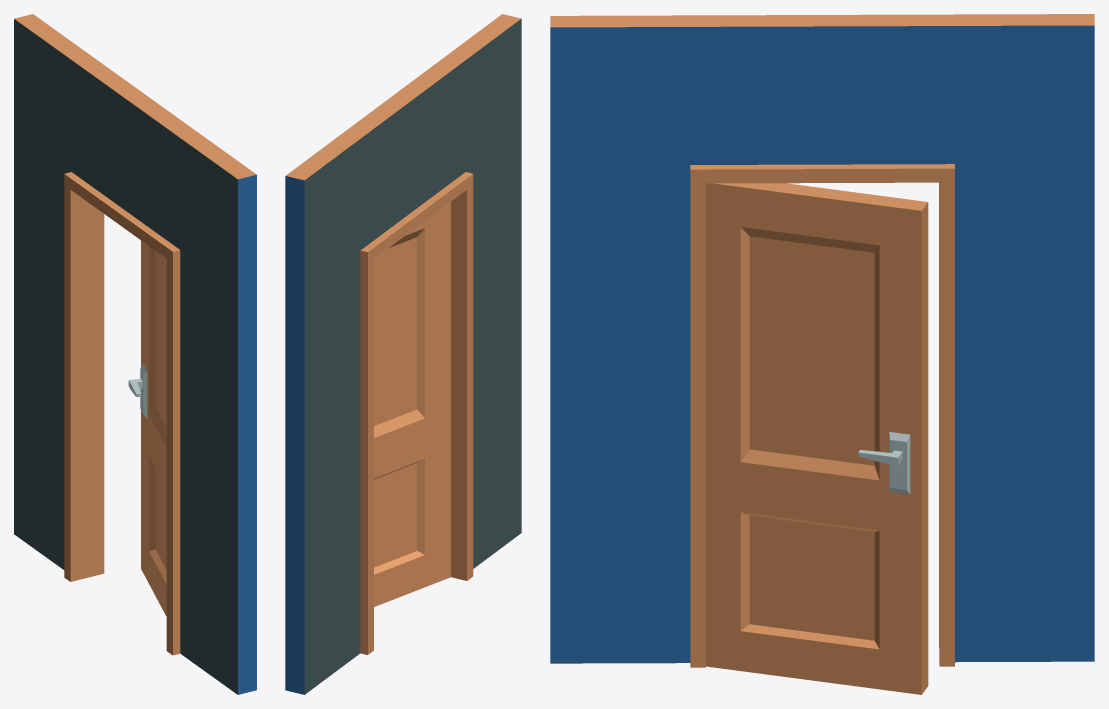
File: porte5.glb
3 renders of one model, left to right at view 1: azimuth 30°, elevation 25°; view 2: azimuth 150°, elevation 25°; view 3: azimuth 270°, elevation 25°, orthographic. The views are drawn at different scales.
Visible parts, largest first — view 1: wallDoorway, door; view 2: wallDoorway, door; view 3: wallDoorway, door.
Part boxes in pixels (x1,y1,x2,y2): wallDoorway: [14, 14, 256, 694]; door: [128, 240, 166, 616]; wallDoorway: [285, 14, 521, 694]; door: [374, 202, 450, 606]; wallDoorway: [550, 14, 1094, 667]; door: [706, 183, 928, 694].
Size of the model in its own units: 0.2369 by 1.29 by 1.
